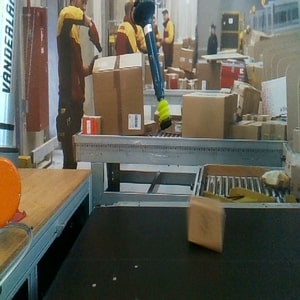box: (185, 194, 228, 253)
